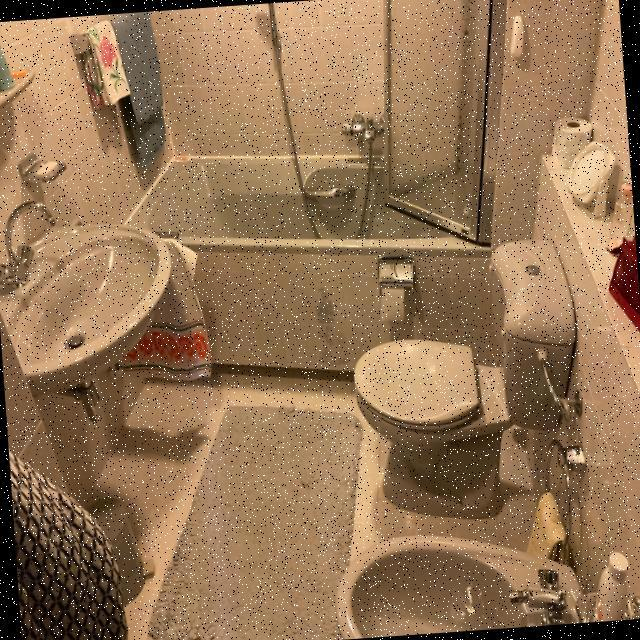bath: (107, 0, 532, 325)
toilet: (342, 231, 588, 522), (328, 520, 589, 640)
wastafel: (0, 186, 182, 429)
